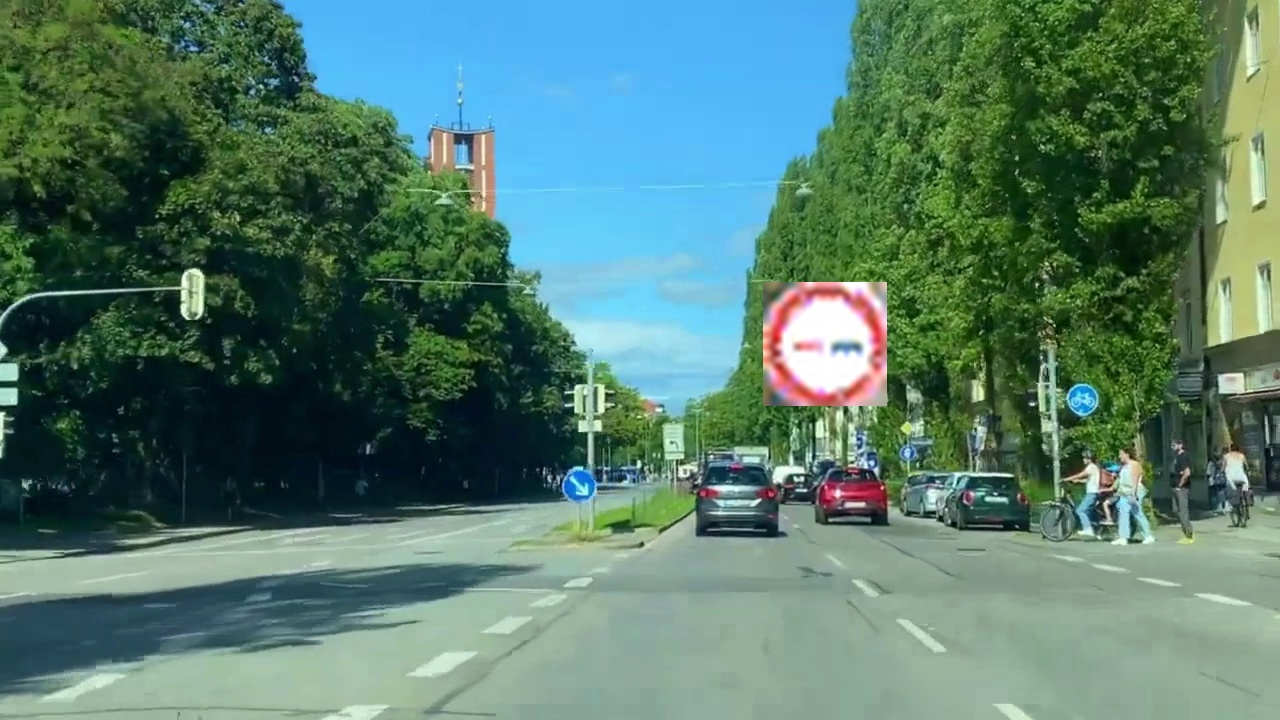No passing: (763, 282, 887, 406)
